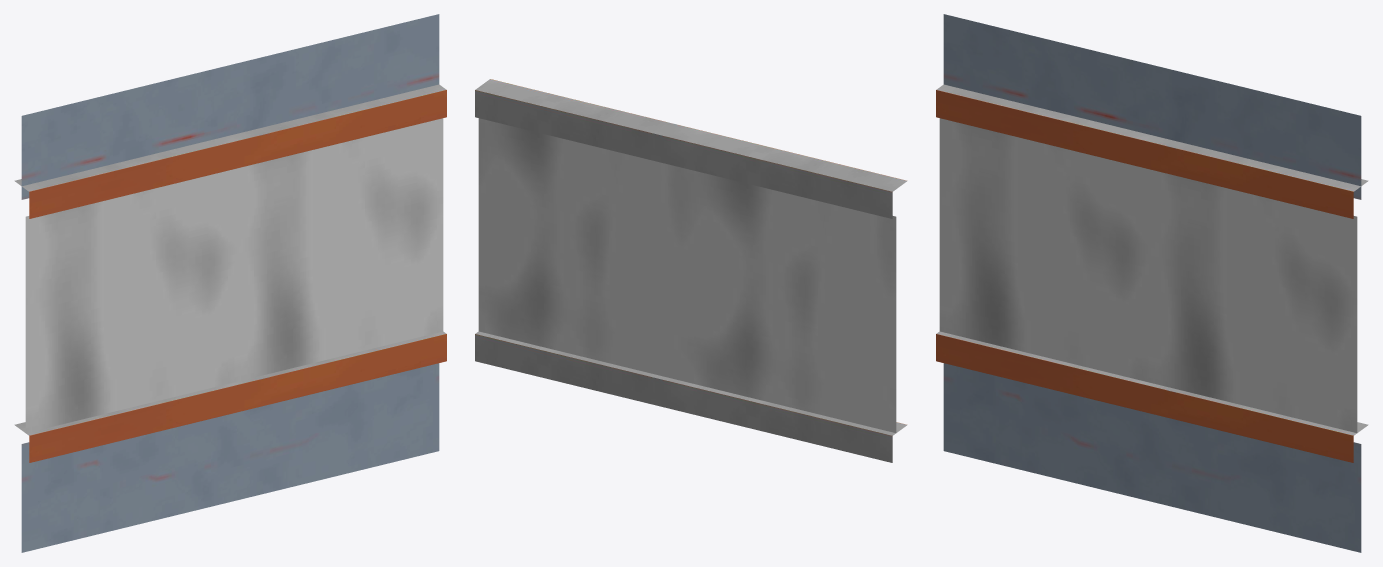
The model's file is Wall_Window.glb.
3 renders of one model, left to right at view 1: azimuth 30°, elevation 25°; view 2: azimuth 150°, elevation 25°; view 3: azimuth 330°, elevation 25°, orthographic.
Visible parts, largest first — view 1: Wall_Window; view 2: Wall_Window; view 3: Wall_Window.
Boxes of the visible parts, x1,y1,x2,y2 form: Wall_Window: (14,14,446,552); Wall_Window: (475,79,907,462); Wall_Window: (936,14,1368,552).
Size of the model in its own units: 6 by 6 by 0.375.
3 materials, 3 textured.
